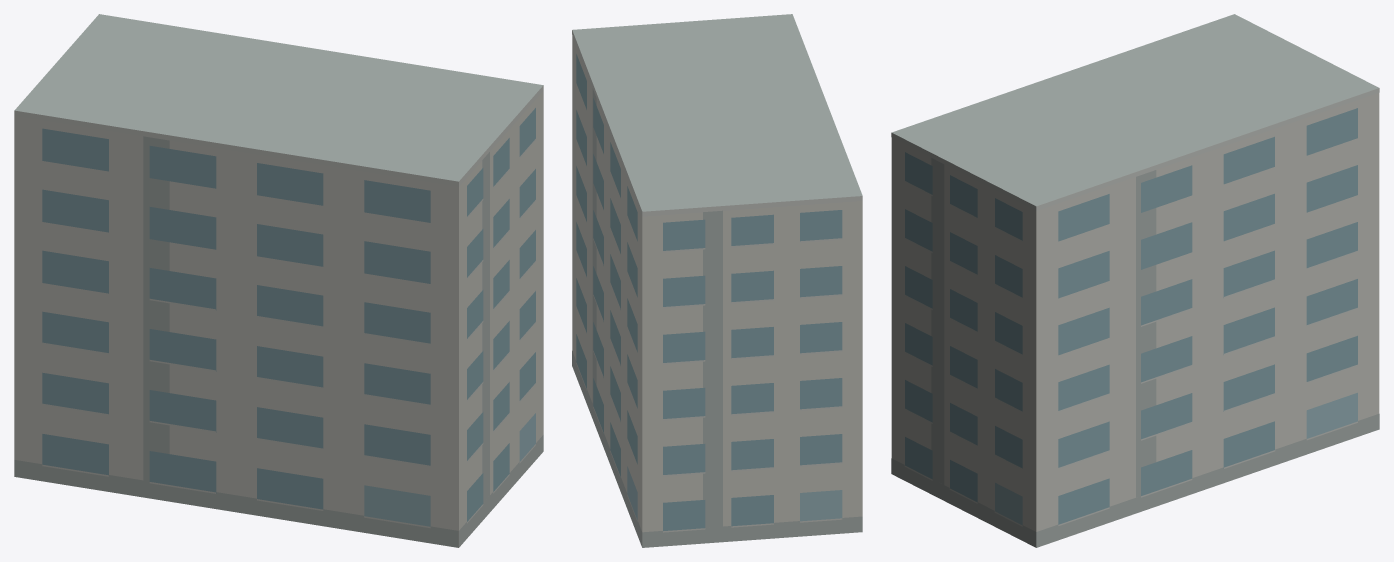
Rendered from survey-upis-33020273.glb.
3 renders of one model, left to right at view 1: azimuth 30°, elevation 25°; view 2: azimuth 150°, elevation 25°; view 3: azimuth 270°, elevation 25°, orthographic. The views are drawn at different scales.
Visible parts, largest first — view 1: survey-upis-33020273.tmp; view 2: survey-upis-33020273.tmp; view 3: survey-upis-33020273.tmp.
Part boxes in pixels (box(x1,y1,x2,y2)): survey-upis-33020273.tmp: box(14, 14, 543, 547); survey-upis-33020273.tmp: box(572, 14, 862, 547); survey-upis-33020273.tmp: box(891, 14, 1379, 547).
Size of the model in its own units: 20.79 by 17.2 by 22.28.
